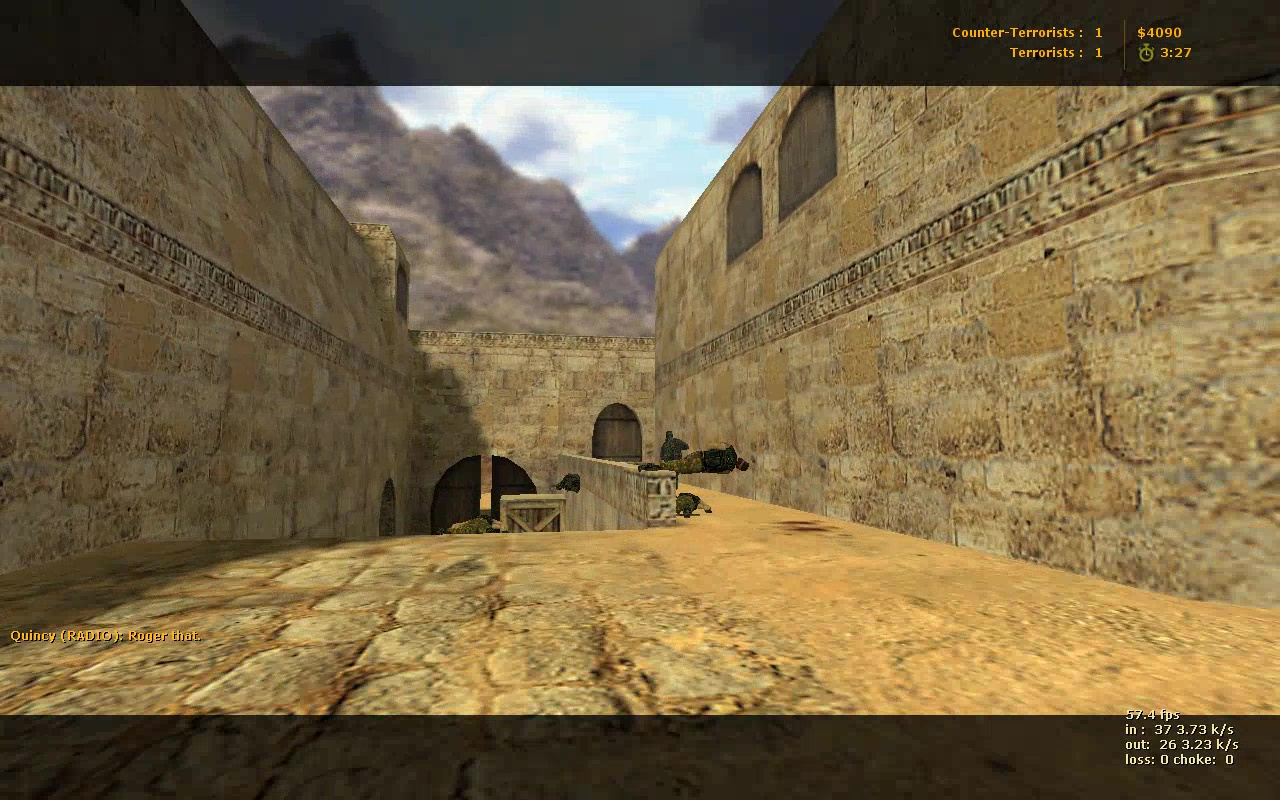ct: (661, 433, 683, 491)
dead: (670, 490, 712, 516)
